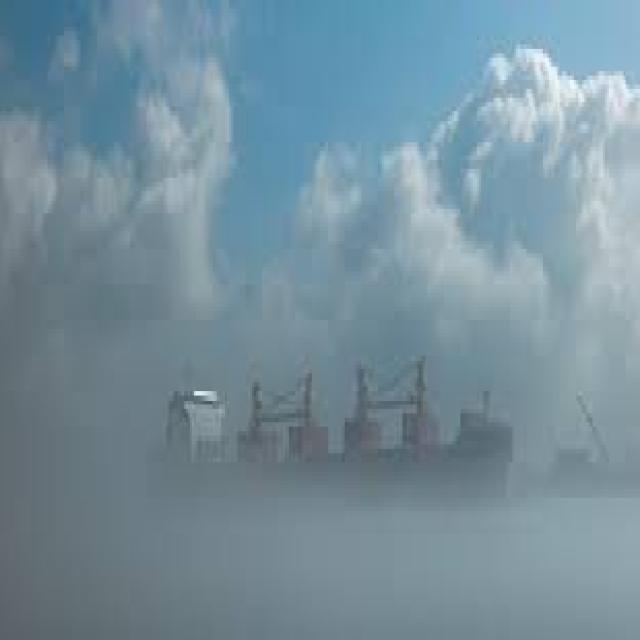cargoship: (148, 353, 516, 520)
